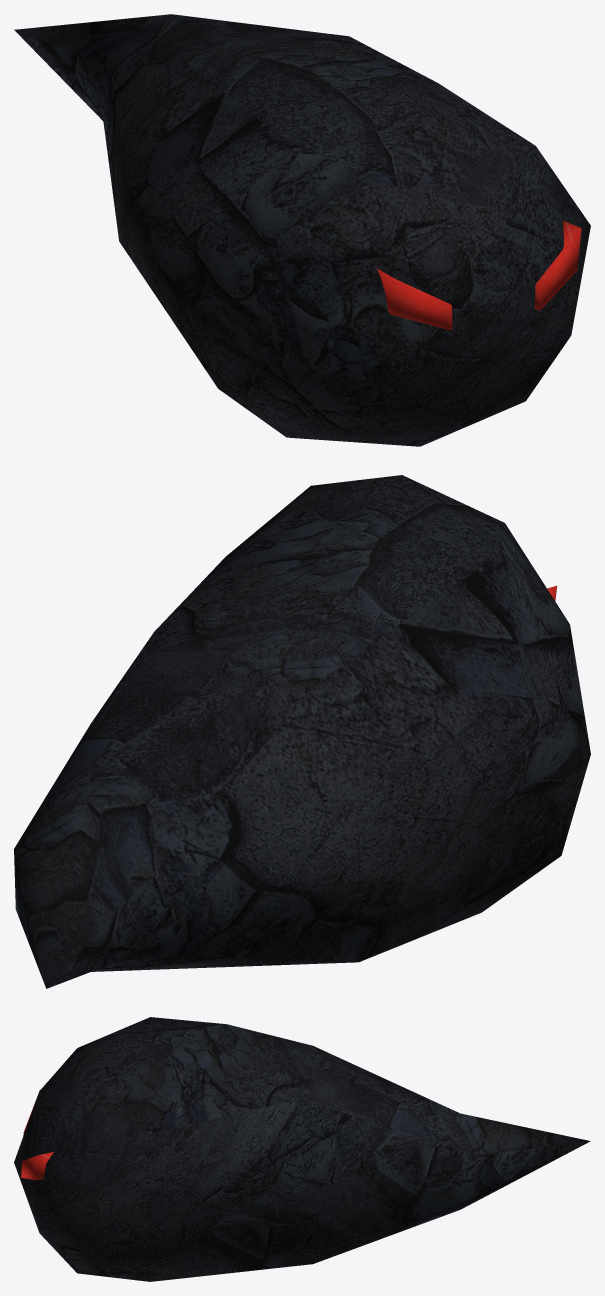
The model's file is eel11.obj.
The picture shows the model from 3 angles, top to bottom: view 1: azimuth 30°, elevation 25°; view 2: azimuth 150°, elevation 25°; view 3: azimuth 270°, elevation 25°; orthographic projection. The views are drawn at different scales.
Visible parts, largest first — view 1: Icosphere; view 2: Icosphere; view 3: Icosphere.
Boxes of the visible parts, x1=… form: Icosphere: x1=14, y1=14, x2=590, y2=446; Icosphere: x1=14, y1=475, x2=590, y2=988; Icosphere: x1=14, y1=1017, x2=590, y2=1281.
Size of the model in its own units: 2.08 by 1.9 by 4.33.
Materials: 2 (2 with a texture image).
